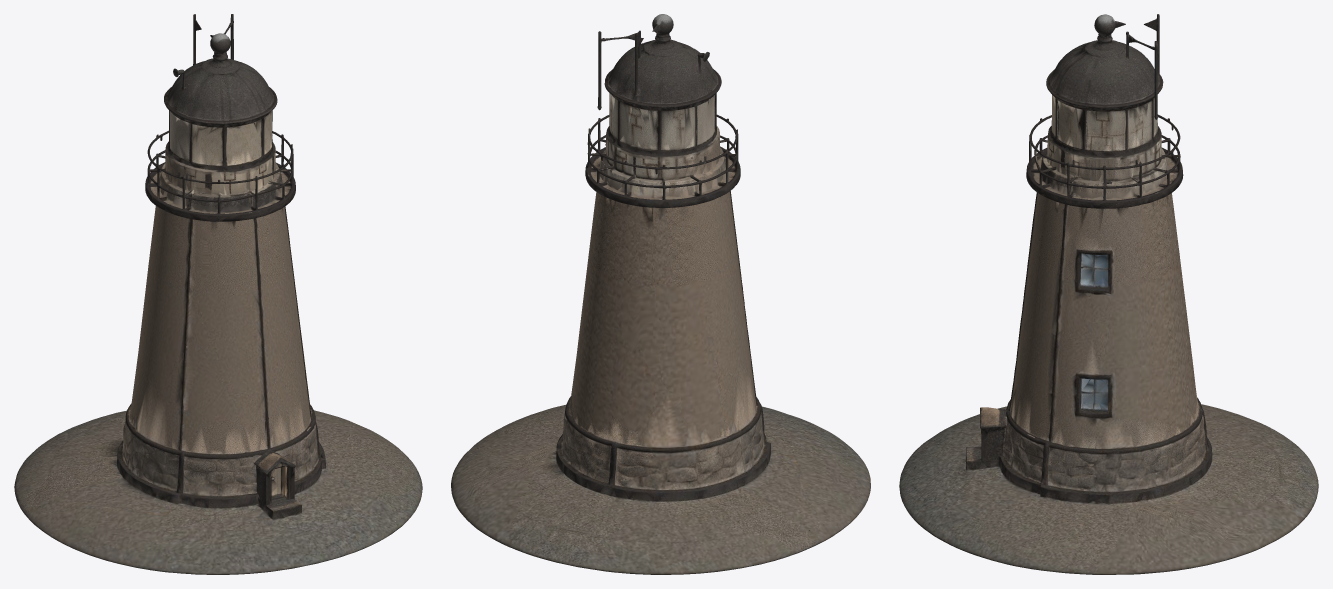
The model's file is links_lighthouse.b57243e7.glb.
3 renders of one model, left to right at view 1: azimuth 30°, elevation 25°; view 2: azimuth 150°, elevation 25°; view 3: azimuth 270°, elevation 25°, orthographic. The views are drawn at different scales.
Bounding box in the file's own units: 1.53 × 1.9 × 1.53.
1 material, 1 textured.
